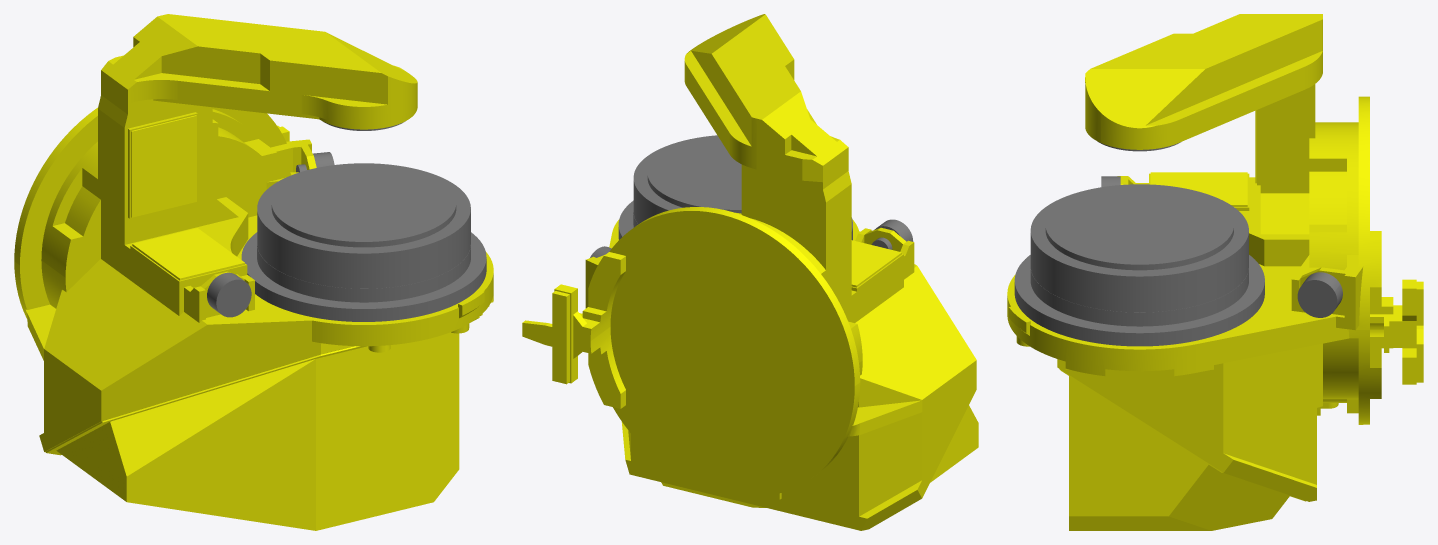
The picture shows the model from 3 angles, left to right: view 1: azimuth 30°, elevation 25°; view 2: azimuth 150°, elevation 25°; view 3: azimuth 270°, elevation 25°; orthographic projection. The views are drawn at different scales.
Parts seen in each view (by area): view 1: Mesh_0; view 2: Mesh_0; view 3: Mesh_0.
Part boxes in pixels (x1,y1,x2,y2): Mesh_0: [14, 14, 493, 530]; Mesh_0: [522, 14, 978, 530]; Mesh_0: [1007, 14, 1423, 530].
Bounding box in the file's own units: 0.566 × 0.6319 × 0.5405.
